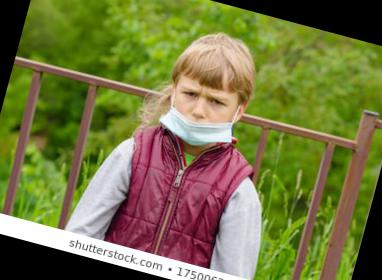mask_weared_incorrect: (162, 80, 237, 150)
